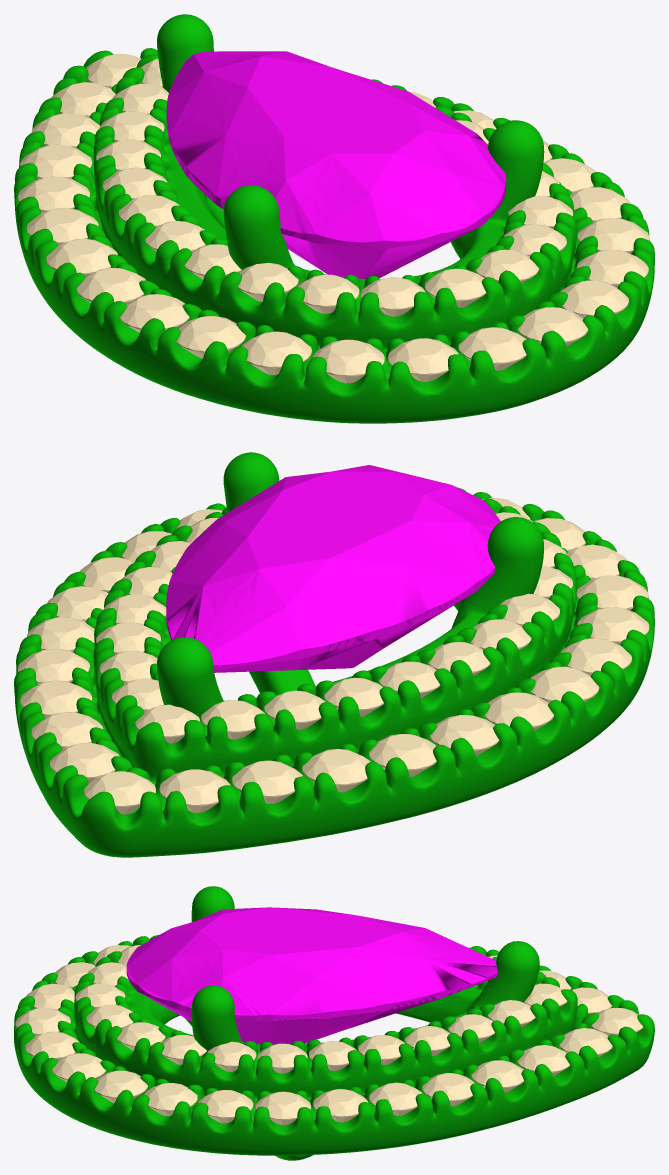
3 renders of one model, top to bottom at view 1: azimuth 30°, elevation 25°; view 2: azimuth 150°, elevation 25°; view 3: azimuth 270°, elevation 25°, orthographic. The views are drawn at different scales.
Parts seen in each view (by area): view 1: Metal01, Diamond_Pear, Diamond_Round.034, Diamond_Round.033, Diamond_Round.031, Diamond_Round.022, Diamond_Round.032, Diamond_Round.035, Diamond_Round.030, Diamond_Round.036, Diamond_Round.028, Diamond_Round.029 (+24 smaller); view 2: Metal01, Diamond_Pear, Diamond_Round.025, Diamond_Round.023, Diamond_Round.024, Diamond_Round.026, Diamond_Round.046, Diamond_Round.029, Diamond_Round.028, Diamond_Round.027, Diamond_Round.045, Diamond_Round.030 (+26 smaller); view 3: Metal01, Diamond_Pear, Diamond_Round.047, Diamond_Round.038, Diamond_Round.040, Diamond_Round.039, Diamond_Round.037, Diamond_Round.042, Diamond_Round.041, Diamond_Round.043, Diamond_Round.035, Diamond_Round.044 (+20 smaller).
Boxes of the visible parts, x1,y1,x2,y2 form: Metal01: (14,14,654,423); Diamond_Pear: (166,51,506,278); Diamond_Round.034: (388,338,458,381); Diamond_Round.033: (313,339,384,383); Diamond_Round.031: (176,316,245,358); Diamond_Round.022: (458,327,526,370); Diamond_Round.032: (242,331,311,374); Diamond_Round.035: (517,307,588,346); Diamond_Round.030: (120,294,189,332); Diamond_Round.036: (560,280,628,318); Diamond_Round.028: (46,238,117,276); Diamond_Round.029: (76,268,145,304); Metal01: (14,452,654,857); Diamond_Pear: (166,465,500,672); Diamond_Round.025: (302,749,370,792); Diamond_Round.023: (159,769,230,812); Diamond_Round.024: (232,760,302,803); Diamond_Round.026: (369,734,436,776); Diamond_Round.046: (84,771,155,814); Diamond_Round.029: (530,666,599,703); Diamond_Round.028: (484,692,554,730); Diamond_Round.027: (430,715,499,756); Diamond_Round.045: (49,743,119,782); Diamond_Round.030: (561,638,631,675); Metal01: (14,886,654,1160); Diamond_Pear: (126,907,498,1044); Diamond_Round.047: (255,1091,310,1125); Diamond_Round.038: (144,1083,197,1116); Diamond_Round.040: (313,1089,368,1122); Diamond_Round.039: (198,1090,253,1123); Diamond_Round.037: (94,1070,147,1102); Diamond_Round.042: (422,1073,474,1106); Diamond_Round.041: (369,1082,422,1115); Diamond_Round.043: (471,1060,523,1092); Diamond_Round.035: (25,1031,79,1060); Diamond_Round.044: (517,1045,569,1076).
Size of the model in its own units: 12.47 by 6.72 by 17.42.
